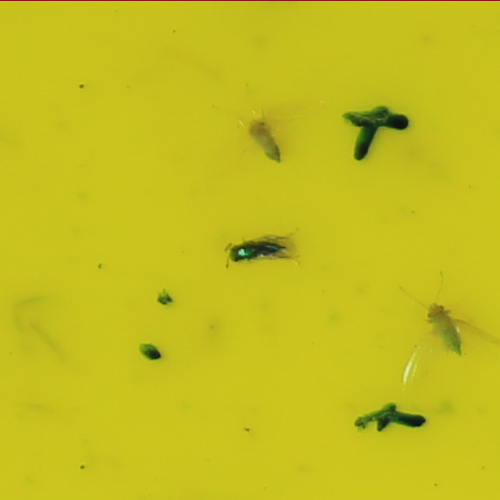Glycaspis: (422, 299, 465, 356), (247, 118, 281, 162)
Psyllaephagus: (224, 240, 288, 262)
